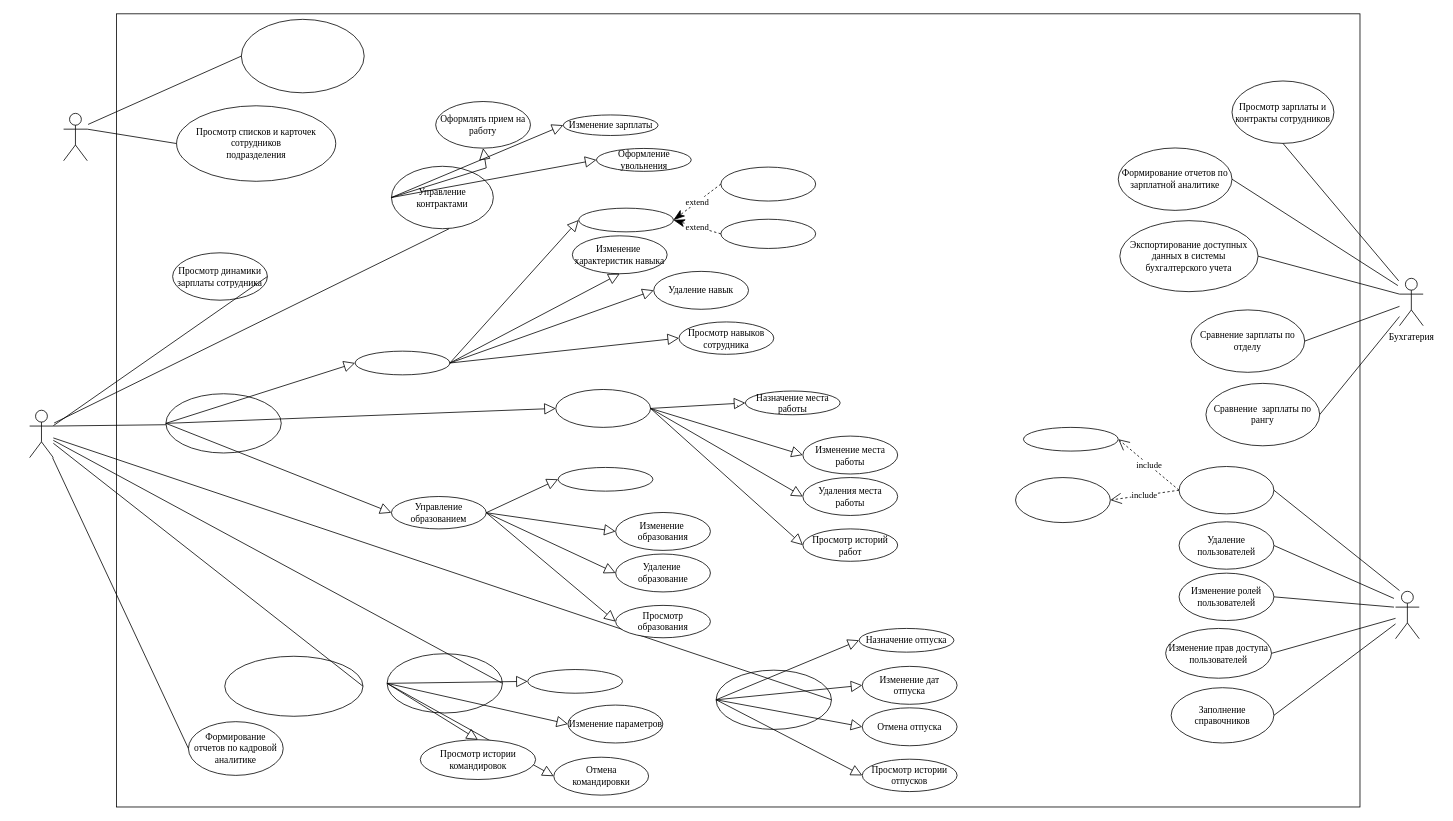
This 1453x821 diagram has some shape labels left out. Here are the shapes that lost their labels. From the top down, the centre of each, then its label:
pixel 302 56: Формирование отчетов по аналитике персонала в отделе
pixel 75 137: Руководитель подразделения
pixel 768 183: Назначение уровеня владения
pixel 625 219: Назначение навыков
pixel 768 233: Назначение годов владения
pixel 402 362: Управление навыками
pixel 223 423: Управление карточками сотрудников
pixel 603 408: Управление историей работы
pixel 41 433: HR-менеджер
pixel 1070 439: Назначение роли
pixel 605 479: Назначение образование
pixel 1226 490: Добавления новых пользователей
pixel 1062 500: Назначение прав доступа
pixel 1407 615: Администратор
pixel 293 685: Фиксирование прохождение сотрудником курсов повышения квалификации
pixel 444 683: Управление командировками сотрудников
pixel 575 681: Назначение командировки
pixel 773 699: Управление отпусками сотрудников
